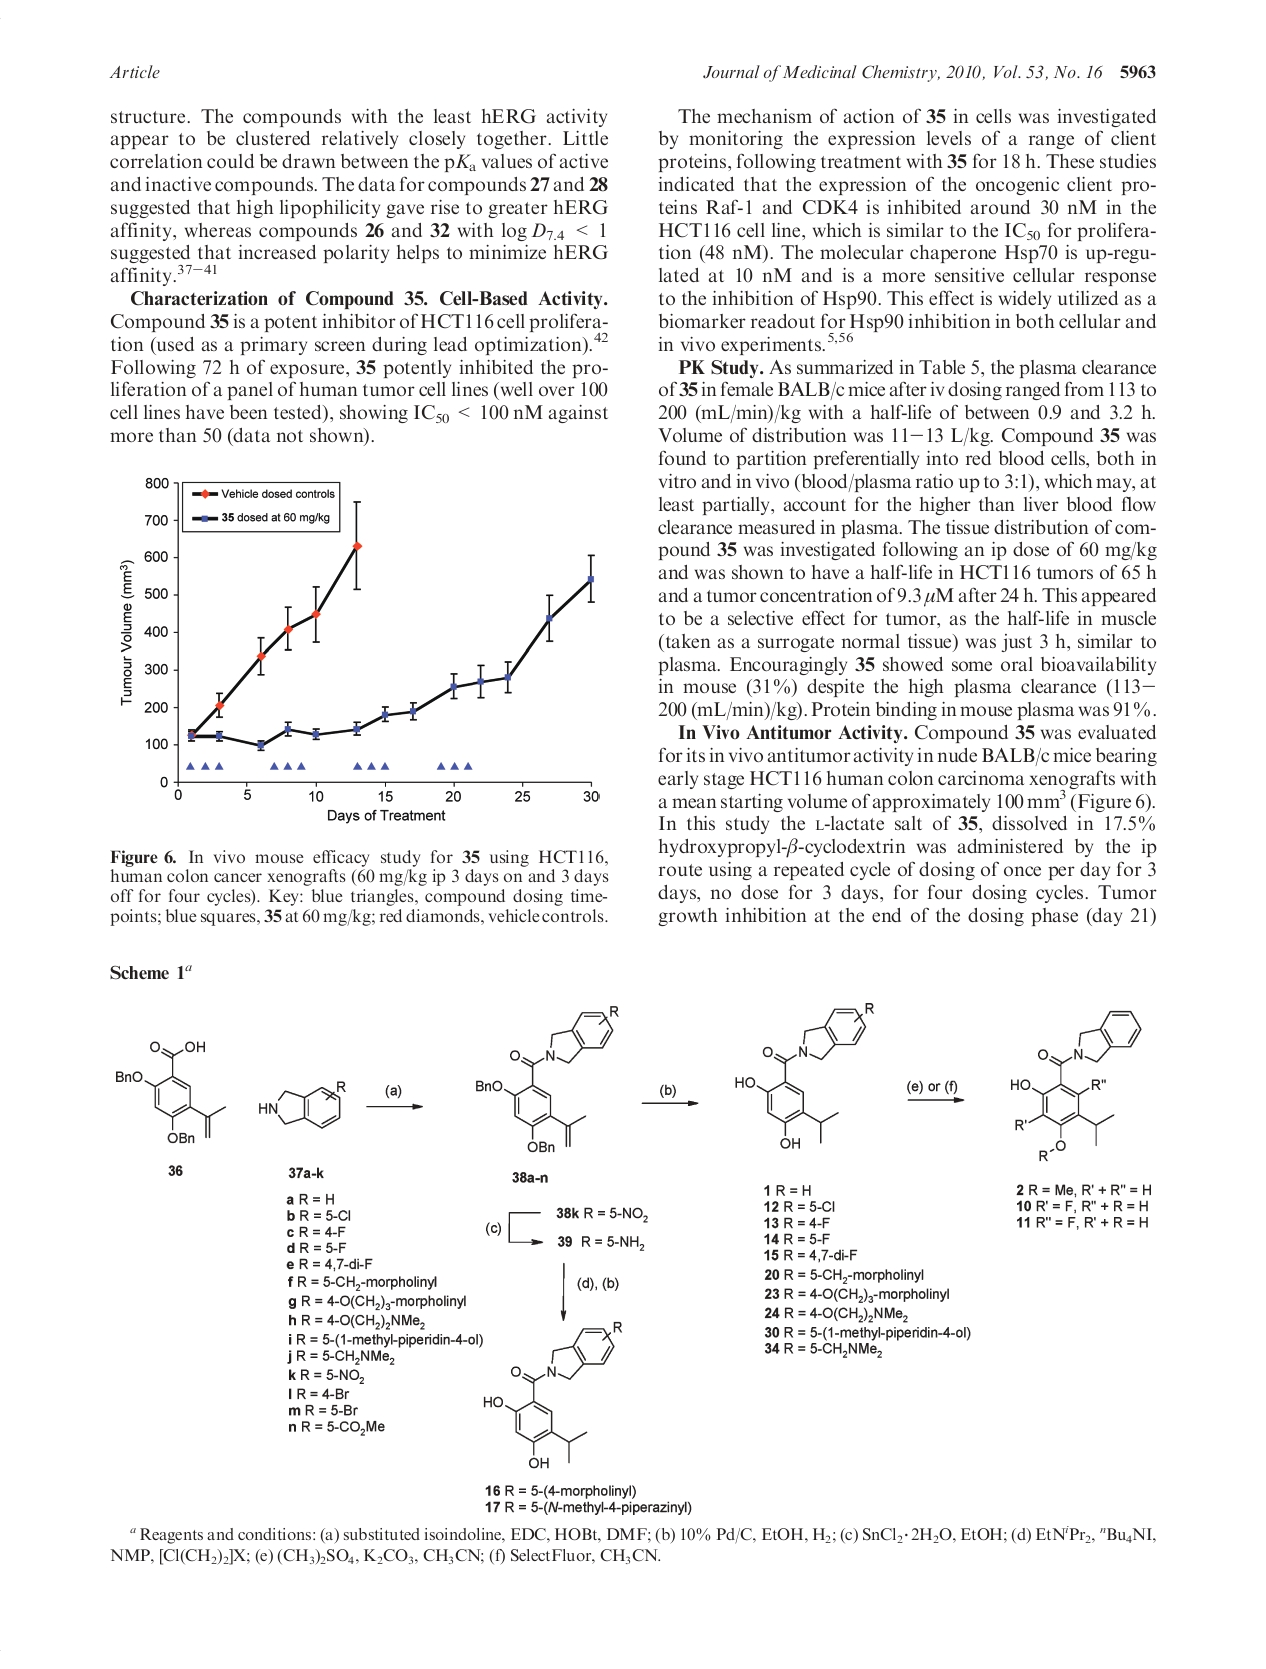exist_molecular: (469, 995, 632, 1160), (476, 1311, 632, 1474), (729, 995, 879, 1150), (1009, 1001, 1146, 1160), (113, 1035, 234, 1154), (247, 1075, 356, 1132)
